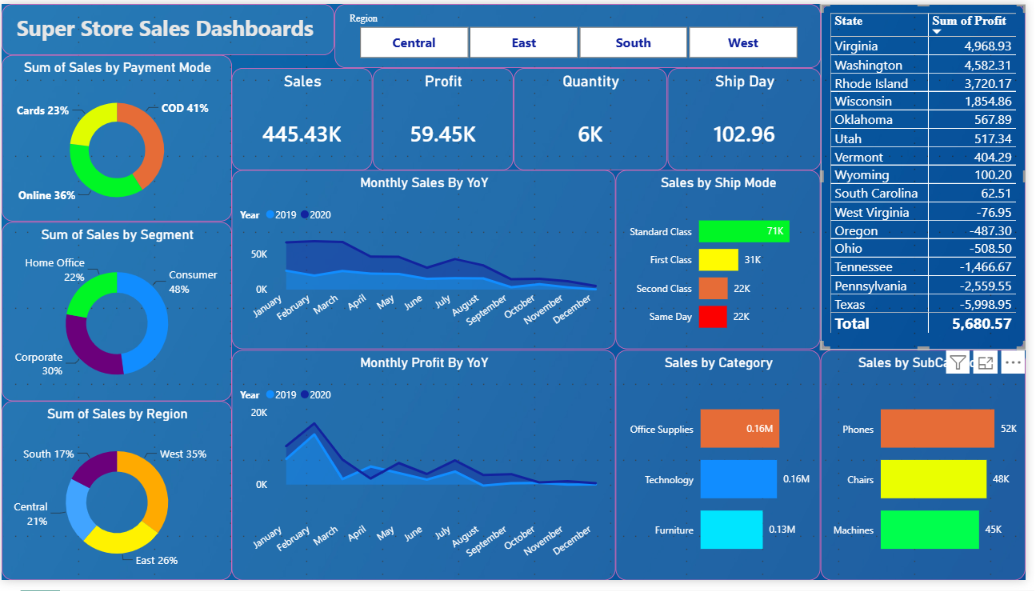

The dashboard page shown, as its layout file describes it:
{"tool":"powerbi","page":{"name":"Page 1","canvas":[1280,720],"ordinal":0},"visuals":[{"type":"clusteredBarChart","title":"Sales by Category","fields":{"Category":["SuperStore_Sales_Dataset.Category"],"Y":["Sum(SuperStore_Sales_Dataset.Sales)"]},"box":[768,432,256,288],"z":0},{"type":"clusteredBarChart","title":"Sales by SubCategory","fields":{"Category":["SuperStore_Sales_Dataset.Sub-Category"],"Y":["Sum(SuperStore_Sales_Dataset.Sales)"]},"box":[1024,432,240,288],"z":1000},{"type":"clusteredBarChart","title":"Sales by Ship Mode","fields":{"Category":["SuperStore_Sales_Dataset.Ship Mode"],"Y":["Sum(SuperStore_Sales_Dataset.Sales)"]},"box":[768,208,256,224],"z":2000},{"type":"stackedAreaChart","title":"Monthly Sales By YoY","fields":{"Y":["Sum(SuperStore_Sales_Dataset.Sales)"],"Category":["SuperStore_Sales_Dataset.Order Date.Variation.Date Hierarchy.Month","SuperStore_Sales_Dataset.Order Date.Variation.Date Hierarchy.Day"],"Series":["SuperStore_Sales_Dataset.Order Date.Variation.Date Hierarchy.Year"]},"box":[288,208,480,224],"z":3000},{"type":"stackedAreaChart","title":"Monthly Profit By YoY","fields":{"Category":["SuperStore_Sales_Dataset.Order Date.Variation.Date Hierarchy.Month","SuperStore_Sales_Dataset.Order Date.Variation.Date Hierarchy.Day"],"Series":["SuperStore_Sales_Dataset.Order Date.Variation.Date Hierarchy.Year"],"Y":["Sum(SuperStore_Sales_Dataset.Profit)"]},"box":[288,432,480,288],"z":4000},{"type":"tableEx","fields":{"Values":["SuperStore_Sales_Dataset.State","Sum(SuperStore_Sales_Dataset.Profit)"]},"box":[1024,0,240,434],"z":5000},{"type":"donutChart","fields":{"Category":["SuperStore_Sales_Dataset.Segment"],"Y":["Sum(SuperStore_Sales_Dataset.Sales)"]},"box":[0,272,288,224],"z":6000},{"type":"donutChart","fields":{"Y":["Sum(SuperStore_Sales_Dataset.Sales)"],"Category":["SuperStore_Sales_Dataset.Payment Mode"]},"box":[0,64,288,208],"z":7000},{"type":"slicer","fields":{"Values":["SuperStore_Sales_Dataset.Region"]},"box":[416,0,608,80],"z":8000},{"type":"textbox","box":[0,0,416,64],"z":9000},{"type":"cardVisual","title":"Sales","fields":{"Data":["Sum(SuperStore_Sales_Dataset.Sales)"]},"box":[288,80,176,128],"z":10000},{"type":"cardVisual","title":"Quantity ","fields":{"Data":["Sum(SuperStore_Sales_Dataset.Quantity)"]},"box":[640,80,192,128],"z":11000},{"type":"cardVisual","title":"Profit","fields":{"Data":["Sum(SuperStore_Sales_Dataset.Profit)"]},"box":[464,80,176,128],"z":12000},{"type":"cardVisual","title":"Ship Day","fields":{"Data":["Avg(SuperStore_Sales_Dataset.AvgDelivery)"]},"box":[832,80,192,128],"z":13000},{"type":"donutChart","fields":{"Category":["SuperStore_Sales_Dataset.Region"],"Y":["Sum(SuperStore_Sales_Dataset.Sales)"]},"box":[0,496,288,224],"z":14000}]}

Visuals, with their boxes in screenshot pixels (x1, y1, x2, y2), scaled from the page's 1280x720 canvas onto the 1035x591 screenshot:
"Sales by Category" clusteredBarChart: rect(621, 355, 828, 590)
"Sales by SubCategory" clusteredBarChart: rect(828, 355, 1022, 590)
"Sales by Ship Mode" clusteredBarChart: rect(621, 171, 828, 355)
"Monthly Sales By YoY" stackedAreaChart: rect(233, 171, 621, 355)
"Monthly Profit By YoY" stackedAreaChart: rect(233, 355, 621, 590)
tableEx - SuperStore_Sales_Dataset.State x Sum(SuperStore_Sales_Dataset.Profit): rect(828, 0, 1022, 356)
donutChart - SuperStore_Sales_Dataset.Segment x Sum(SuperStore_Sales_Dataset.Sales): rect(0, 223, 233, 407)
donutChart - Sum(SuperStore_Sales_Dataset.Sales) x SuperStore_Sales_Dataset.Payment Mode: rect(0, 53, 233, 223)
slicer - SuperStore_Sales_Dataset.Region: rect(336, 0, 828, 66)
textbox: rect(0, 0, 336, 53)
"Sales" cardVisual: rect(233, 66, 375, 171)
"Quantity " cardVisual: rect(518, 66, 673, 171)
"Profit" cardVisual: rect(375, 66, 518, 171)
"Ship Day" cardVisual: rect(673, 66, 828, 171)
donutChart - SuperStore_Sales_Dataset.Region x Sum(SuperStore_Sales_Dataset.Sales): rect(0, 407, 233, 590)
